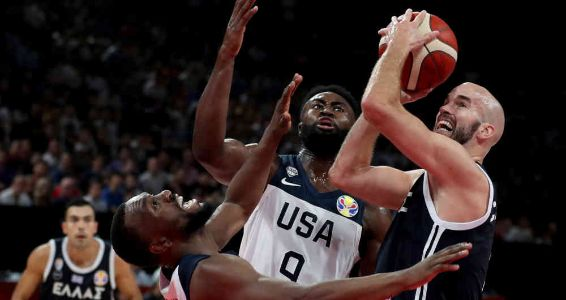baloncesto: (378, 12, 459, 91)
